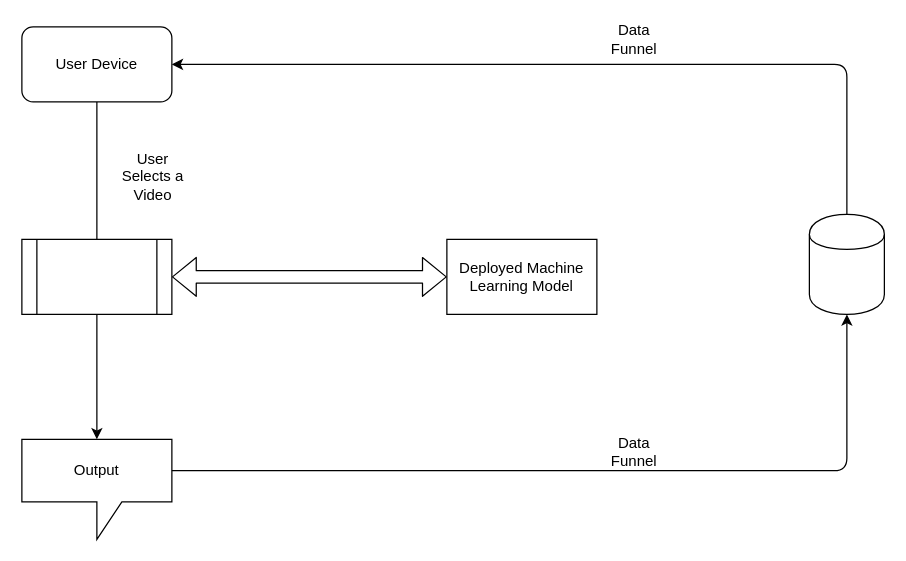
Some shapes in this 906 by 561 pixel diagram are drawn without their labels. Each missing label, with the centre of its shape:
Storage: the point at 846,263
Web-Application AWS: the point at 96,276
